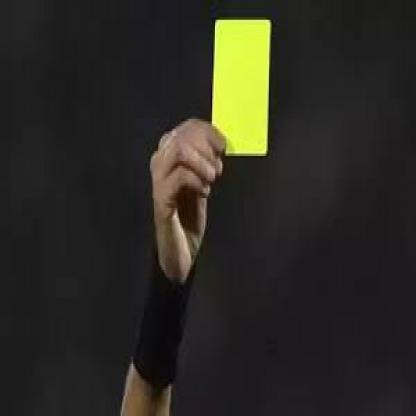foul: (116, 1, 283, 415)
